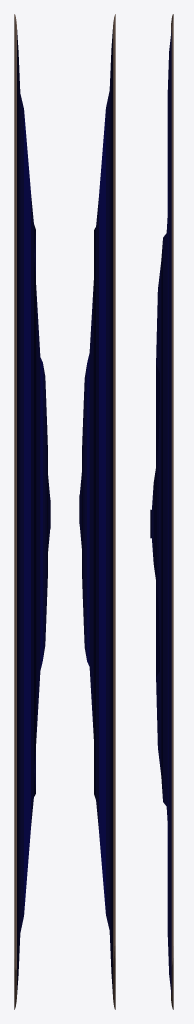
Rendered from blue_flag_222x08.gltf.
3 views of the same model, side by side, from view 1: azimuth 30°, elevation 25°; view 2: azimuth 210°, elevation 25°; view 3: azimuth 270°, elevation 25° (orthographic).
Visible parts, largest first — view 1: blue_flag_222x08; view 2: blue_flag_222x08; view 3: blue_flag_222x08.
Part boxes in pixels (x1,y1,x2,y2): blue_flag_222x08: (14, 14, 50, 1009); blue_flag_222x08: (79, 14, 115, 1009); blue_flag_222x08: (150, 14, 173, 1009).
Size of the model in its own units: 0.0533 by 1.97 by 0.0413.
1 material, 1 textured.
